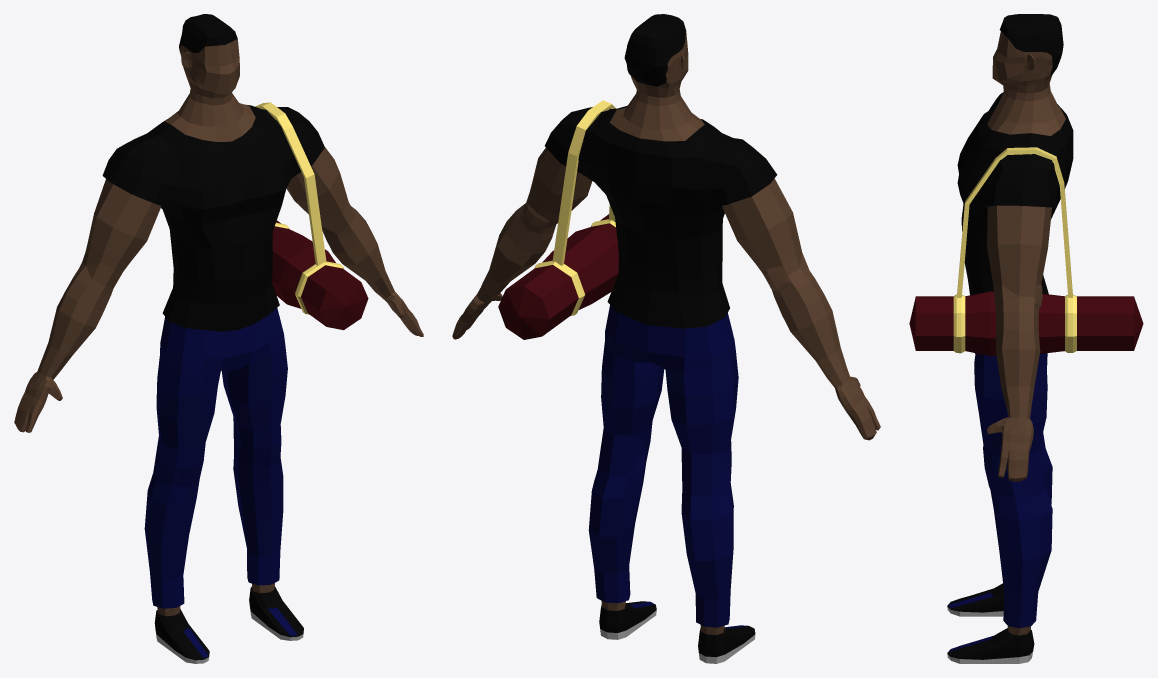
The model's file is marombado.fbx.
The picture shows the model from 3 angles, left to right: view 1: azimuth 30°, elevation 25°; view 2: azimuth 150°, elevation 25°; view 3: azimuth 270°, elevation 25°; orthographic projection. The views are drawn at different scales.
Parts seen in each view (by area): view 1: Corpo, Bolsa; view 2: Corpo, Bolsa; view 3: Corpo, Bolsa.
Part boxes in pixels (left/top/right/bottom): Corpo: left=14, top=14, right=423, bottom=663; Bolsa: left=255, top=102, right=368, bottom=330; Corpo: left=452, top=14, right=880, bottom=663; Bolsa: left=498, top=100, right=618, bottom=339; Corpo: left=947, top=14, right=1073, bottom=663; Bolsa: left=909, top=147, right=1143, bottom=356.
Size of the model in its own units: 122 by 176 by 60.42.
